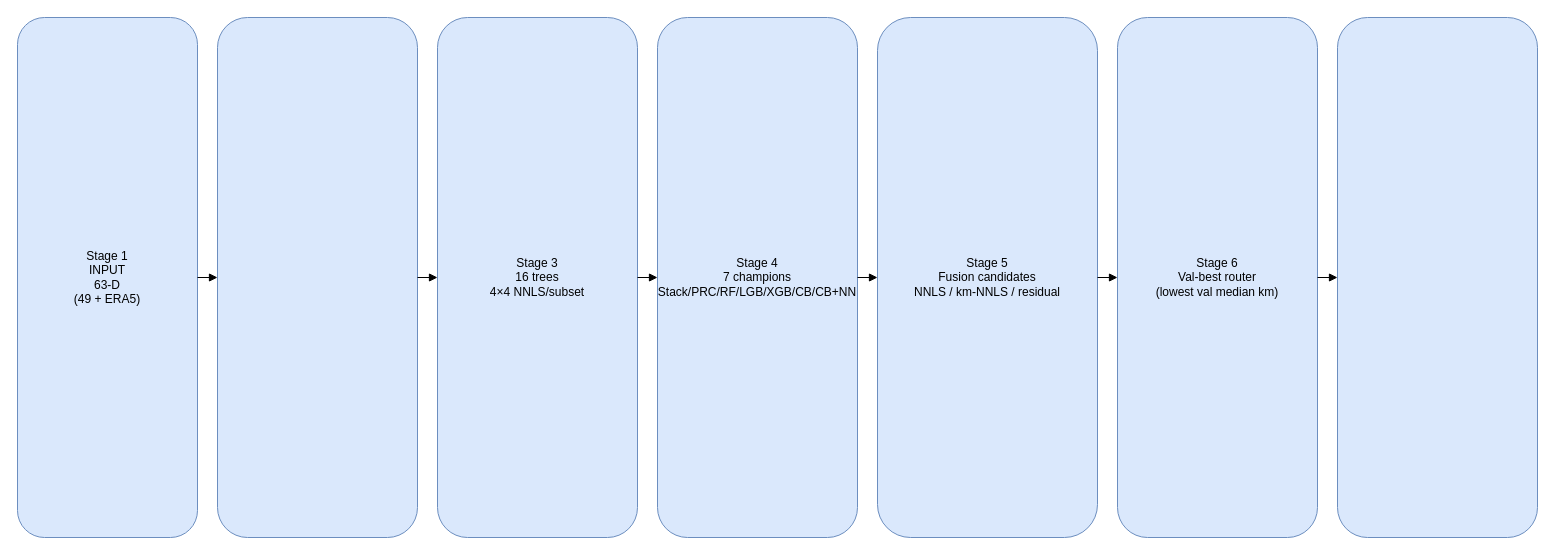
Image size: 1555x555. Some labels were removed from this diagram. Each missing label, with the centre of its shape:
Stage 2 SUBSETS ×4 3h: pos/mot/env/full 12h+: mot/phy/env/full: point 317,277
Stage 7 3h/12h/24h/48h ΔLat, ΔLon: point 1437,277
